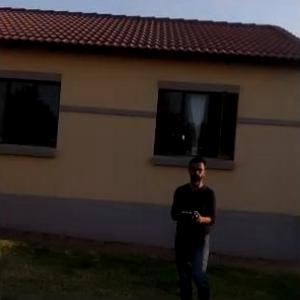follow: (165, 148, 220, 299)
